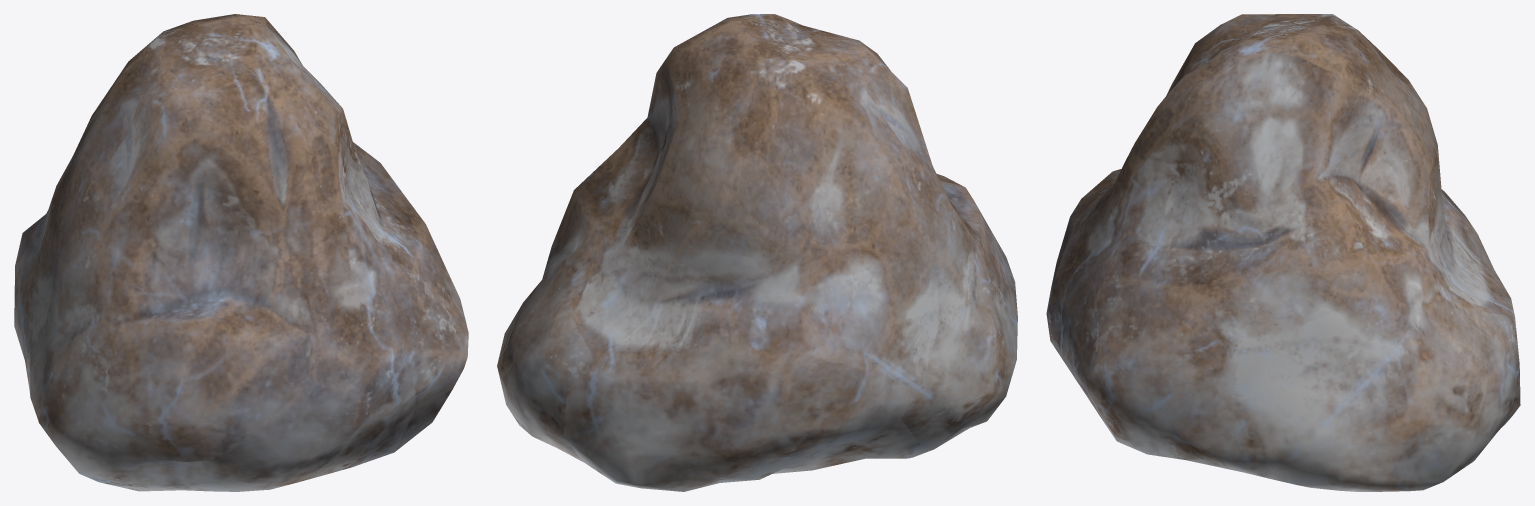
The model's file is EP1_rock02b.fbx.
3 views of the same model, side by side, from view 1: azimuth 30°, elevation 25°; view 2: azimuth 150°, elevation 25°; view 3: azimuth 270°, elevation 25° (orthographic). The views are drawn at different scales.
Visible parts, largest first — view 1: rock02b_low; view 2: rock02b_low; view 3: rock02b_low.
Part boxes in pixels (x1=…): rock02b_low: x1=14, y1=14, x2=468, y2=491; rock02b_low: x1=497, y1=14, x2=1017, y2=491; rock02b_low: x1=1046, y1=14, x2=1520, y2=491.
Size of the model in its own units: 1.62 by 1.56 by 1.65.
